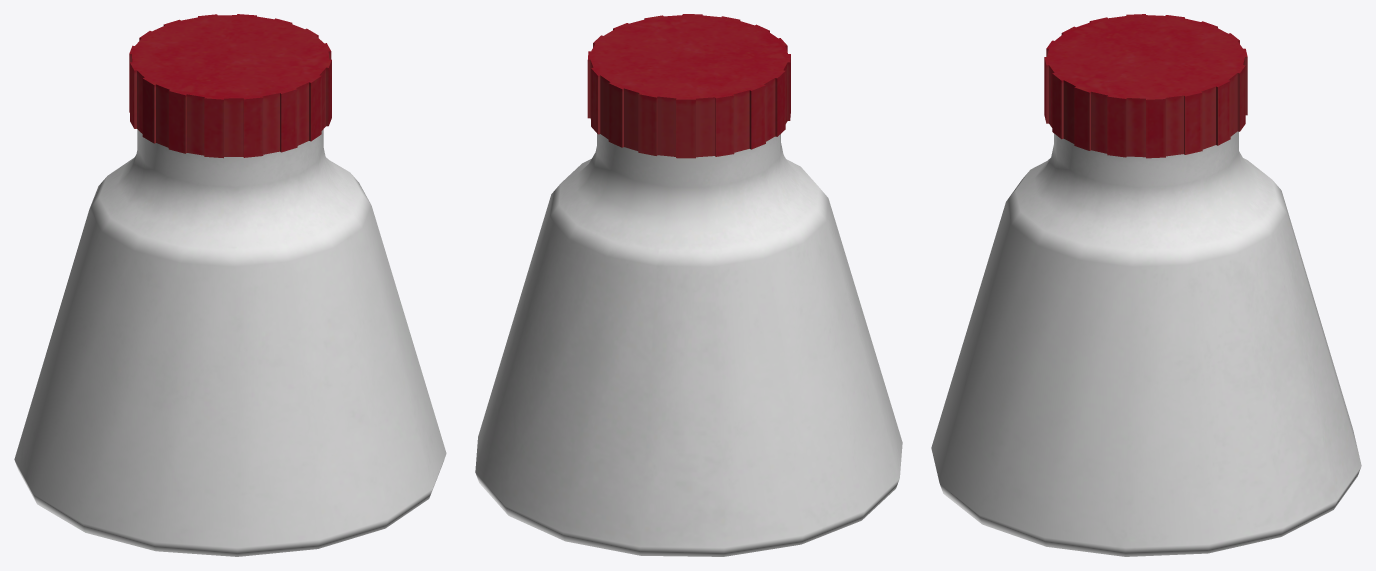
File: MedicineBottleB.glb
3 renders of one model, left to right at view 1: azimuth 30°, elevation 25°; view 2: azimuth 150°, elevation 25°; view 3: azimuth 270°, elevation 25°, orthographic.
Visible parts, largest first — view 1: MedicineBottleB; view 2: MedicineBottleB; view 3: MedicineBottleB.
Part boxes in pixels (box(x1,y1,x2,y2)): MedicineBottleB: box(14, 14, 446, 556); MedicineBottleB: box(475, 14, 902, 556); MedicineBottleB: box(931, 14, 1361, 556).
Bounding box in the file's own units: 0.0582 × 0.0615 × 0.0582.
1 material, 1 textured.
